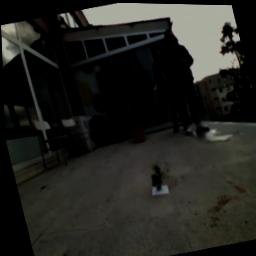herb: (146, 162, 166, 192)
